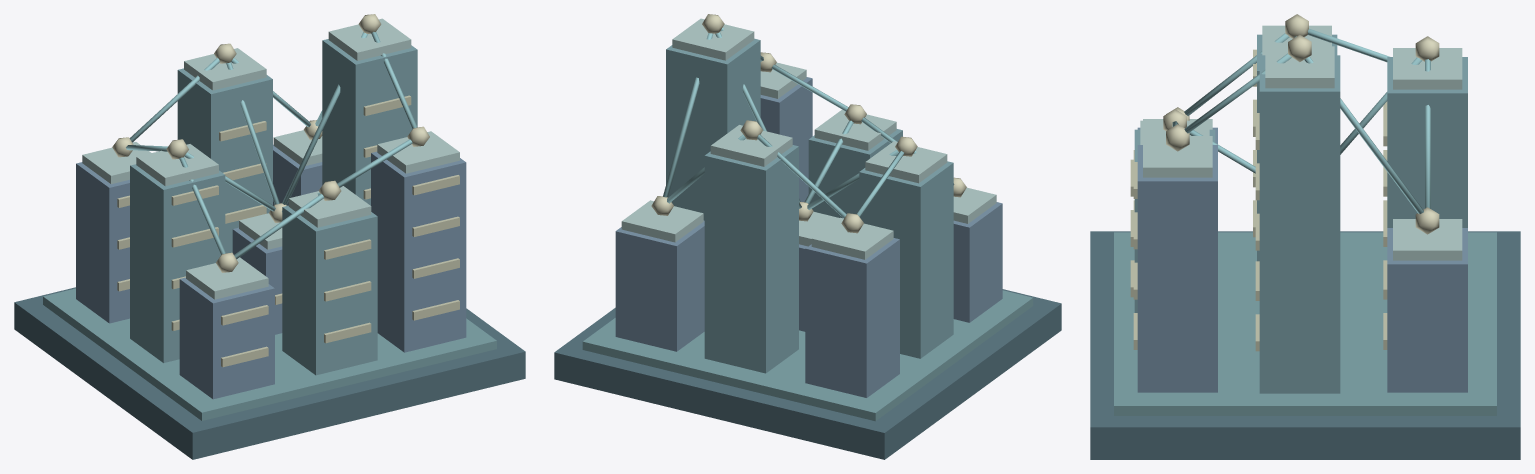
The model's file is ART-65.glb.
3 views of the same model, side by side, from view 1: azimuth 30°, elevation 25°; view 2: azimuth 150°, elevation 25°; view 3: azimuth 270°, elevation 25° (orthographic). The views are drawn at different scales.
Visible parts, largest first — view 1: world; view 2: world; view 3: world.
Boxes of the visible parts, x1,y1,x2,y2 form: world: (14,14,525,459); world: (554,14,1061,459); world: (1090,14,1520,459).
Size of the model in its own units: 2 by 1.82 by 1.86.
